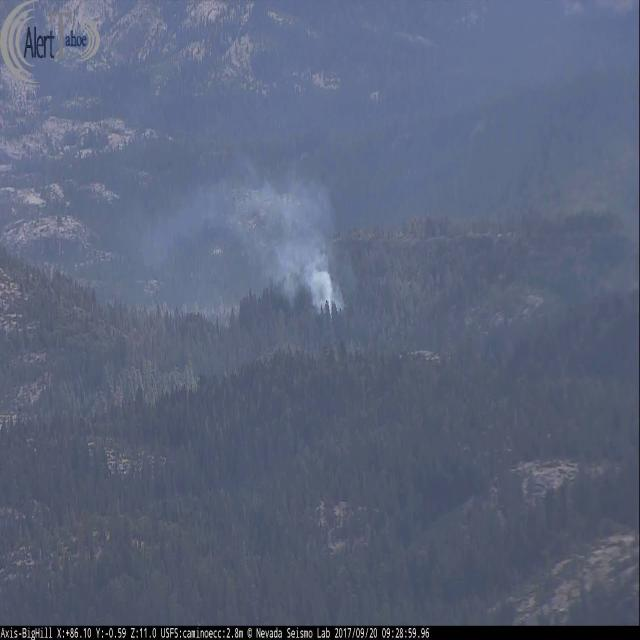smoke: (133, 166, 356, 316)
